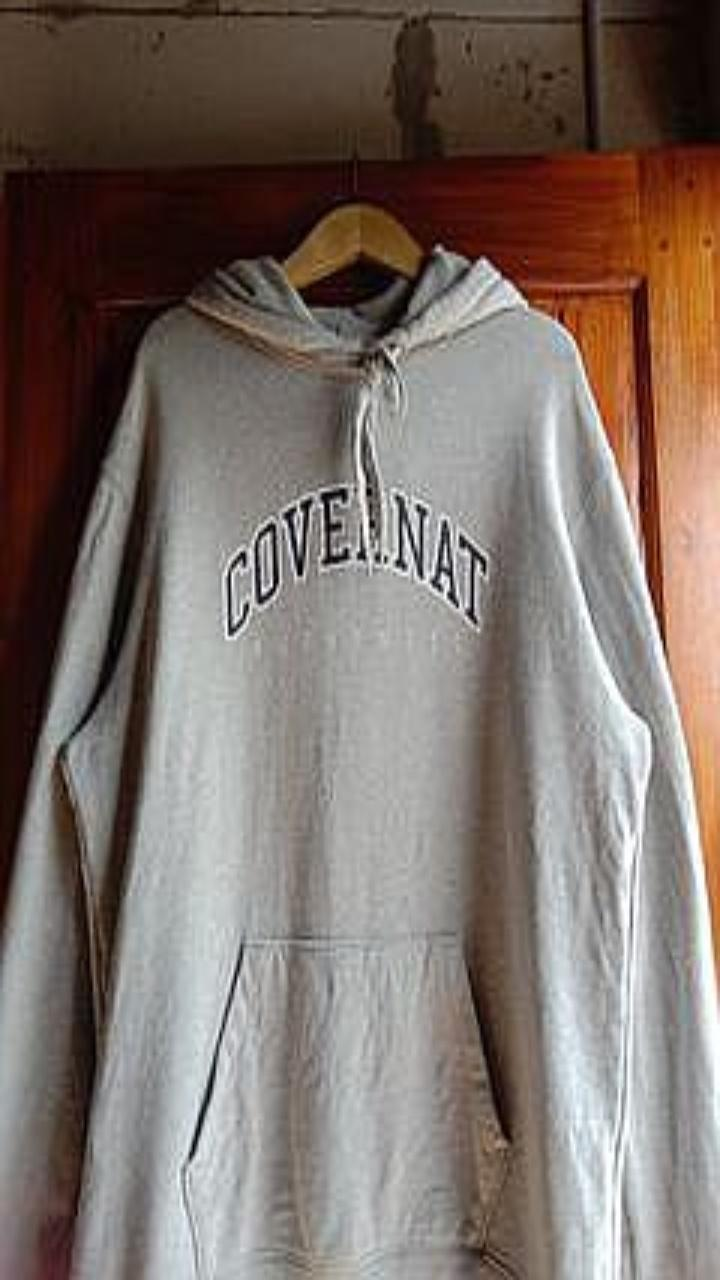Hoodie: (0, 244, 719, 1279)
